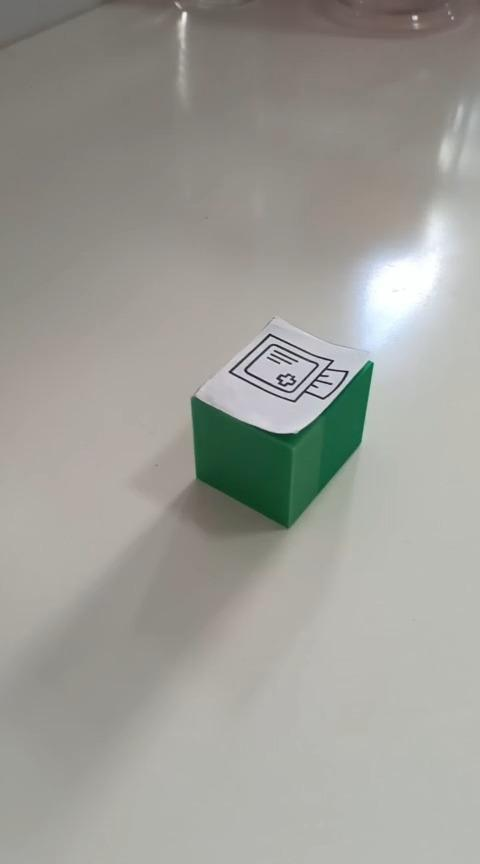Gauze: (189, 314, 374, 529)
